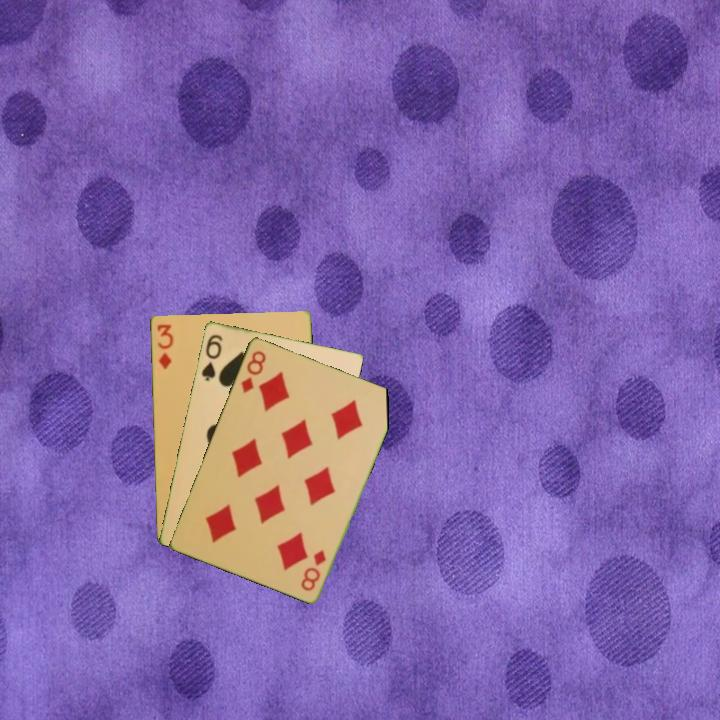3d: (153, 320, 175, 372)
6s: (198, 331, 225, 383)
8d: (237, 347, 269, 396), (297, 546, 329, 594)
